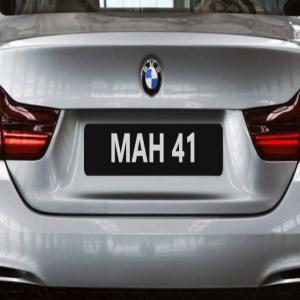Plate: (85, 123, 222, 177)
